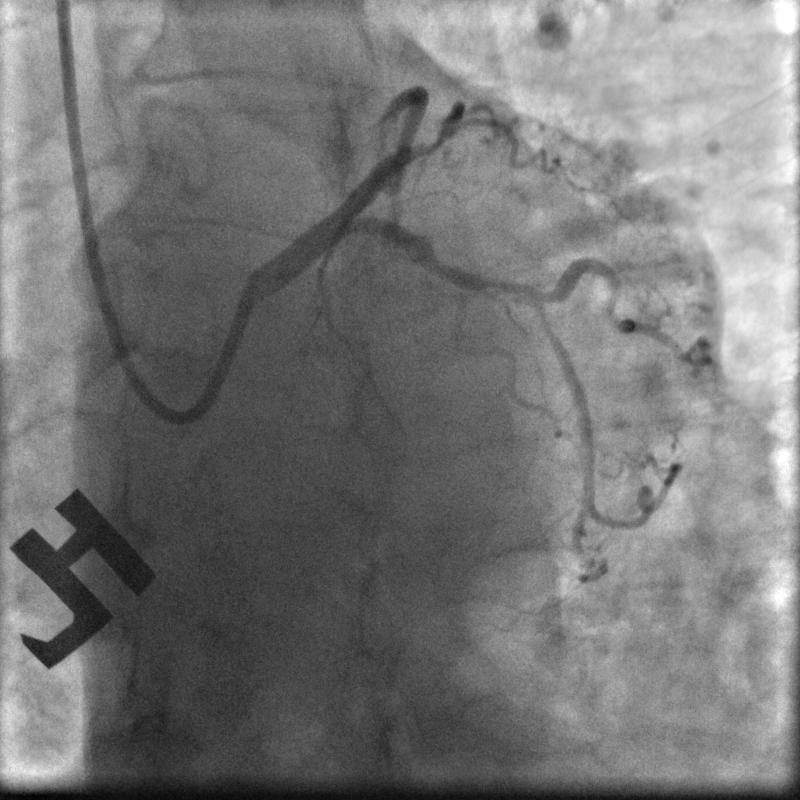Stenosis: (476, 270, 557, 316)
